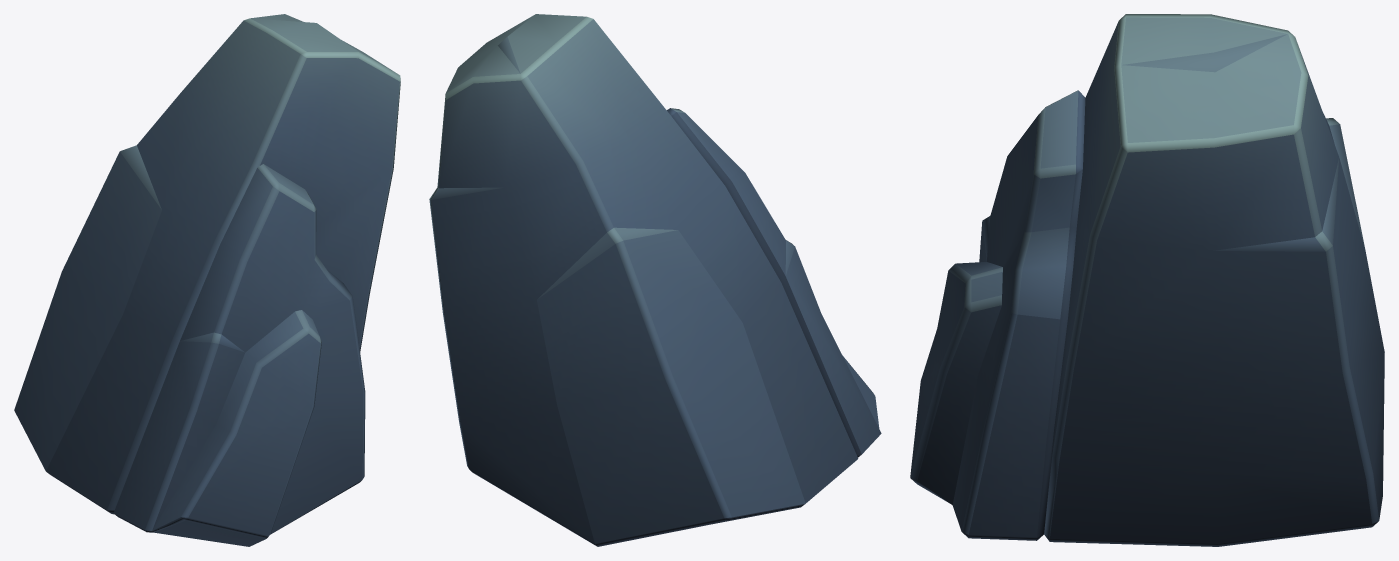
Rendered from rock_029.fbx.
3 views of the same model, side by side, from view 1: azimuth 30°, elevation 25°; view 2: azimuth 150°, elevation 25°; view 3: azimuth 270°, elevation 25° (orthographic). The views are drawn at different scales.
Visible parts, largest first — view 1: rock_029; view 2: rock_029; view 3: rock_029.
Boxes of the visible parts, x1=… form: rock_029: x1=14, y1=14, x2=400, y2=546; rock_029: x1=429, y1=14, x2=881, y2=546; rock_029: x1=910, y1=14, x2=1384, y2=546.
Size of the model in its own units: 871 by 1084 by 805.
1 material, 1 textured.
